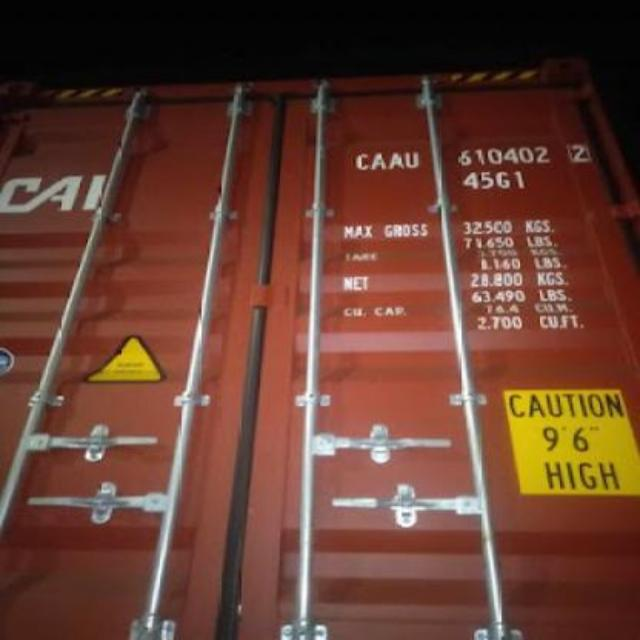0: (518, 138, 534, 170), (486, 142, 502, 168)
1: (472, 140, 486, 167)
2: (564, 139, 596, 165), (532, 140, 556, 170)
4: (502, 142, 518, 168)
6: (458, 142, 474, 168)
A: (368, 144, 386, 172), (386, 144, 404, 170)
C: (352, 143, 368, 173)
U: (404, 142, 424, 174)
